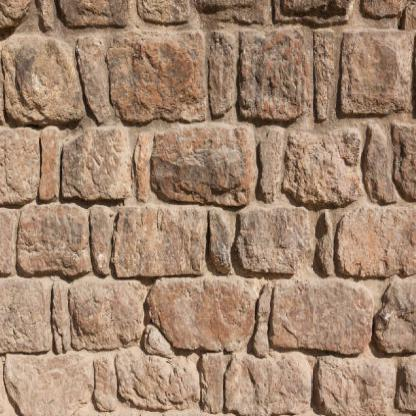Sedimentary_Sandstone: (75, 30, 215, 127), (207, 16, 310, 120), (146, 263, 260, 352), (148, 116, 258, 207), (254, 120, 366, 206), (334, 12, 416, 121), (270, 275, 374, 358), (0, 28, 82, 126), (105, 198, 207, 273), (233, 200, 316, 283), (15, 197, 90, 275), (57, 123, 129, 204), (312, 350, 399, 415)
